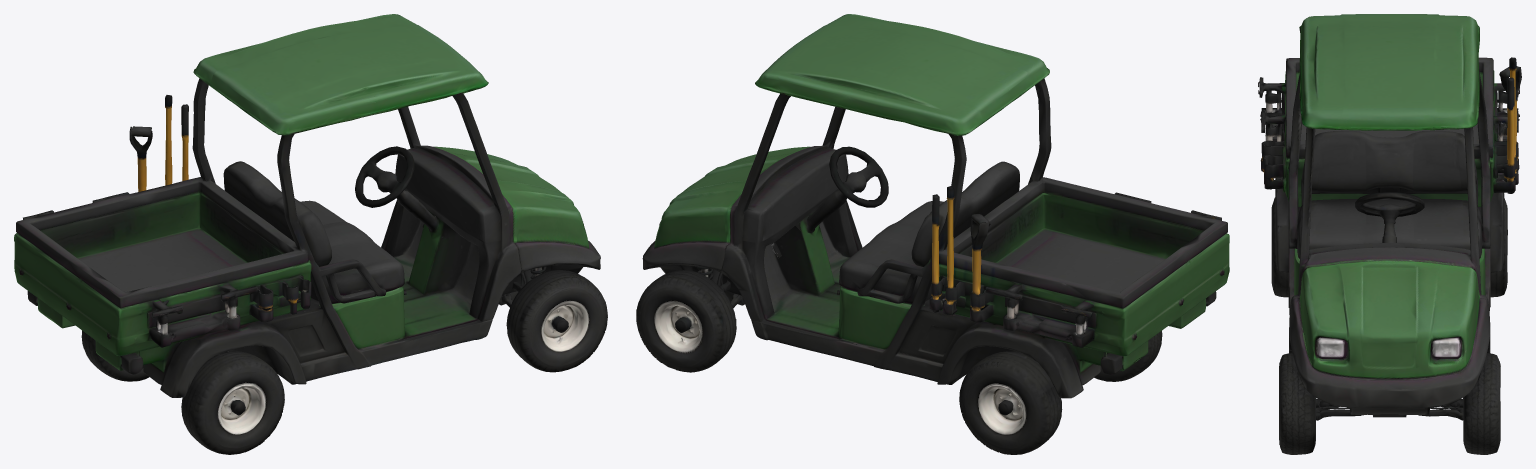
File: golf+cart+3d+model.glb
3 renders of one model, left to right at view 1: azimuth 30°, elevation 25°; view 2: azimuth 150°, elevation 25°; view 3: azimuth 270°, elevation 25°, orthographic.
Visible parts, largest first — view 1: tripo_node_2cf697dc-a48c-489a-9139-db7c520e3ca4; view 2: tripo_node_2cf697dc-a48c-489a-9139-db7c520e3ca4; view 3: tripo_node_2cf697dc-a48c-489a-9139-db7c520e3ca4.
Part boxes in pixels (x1=…): tripo_node_2cf697dc-a48c-489a-9139-db7c520e3ca4: x1=14, y1=14, x2=607, y2=454; tripo_node_2cf697dc-a48c-489a-9139-db7c520e3ca4: x1=636, y1=14, x2=1229, y2=454; tripo_node_2cf697dc-a48c-489a-9139-db7c520e3ca4: x1=1258, y1=14, x2=1521, y2=454.
Size of the model in its own units: 0.9814 by 0.591 by 0.447.
Materials: 1 (1 with a texture image).
